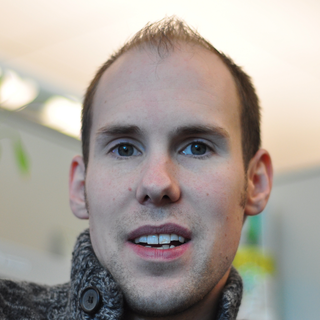eye: (98, 135, 149, 164), (172, 134, 220, 164)
